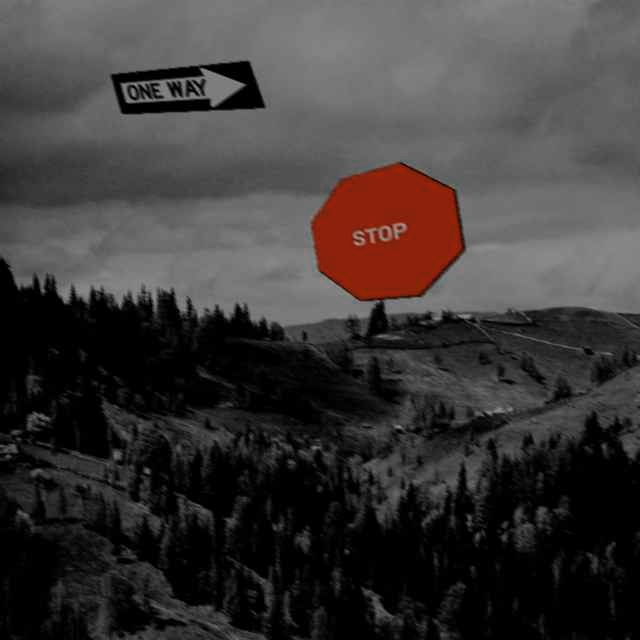ONE_WAY_ right: (110, 60, 265, 114)
STOP: (310, 161, 465, 301)
